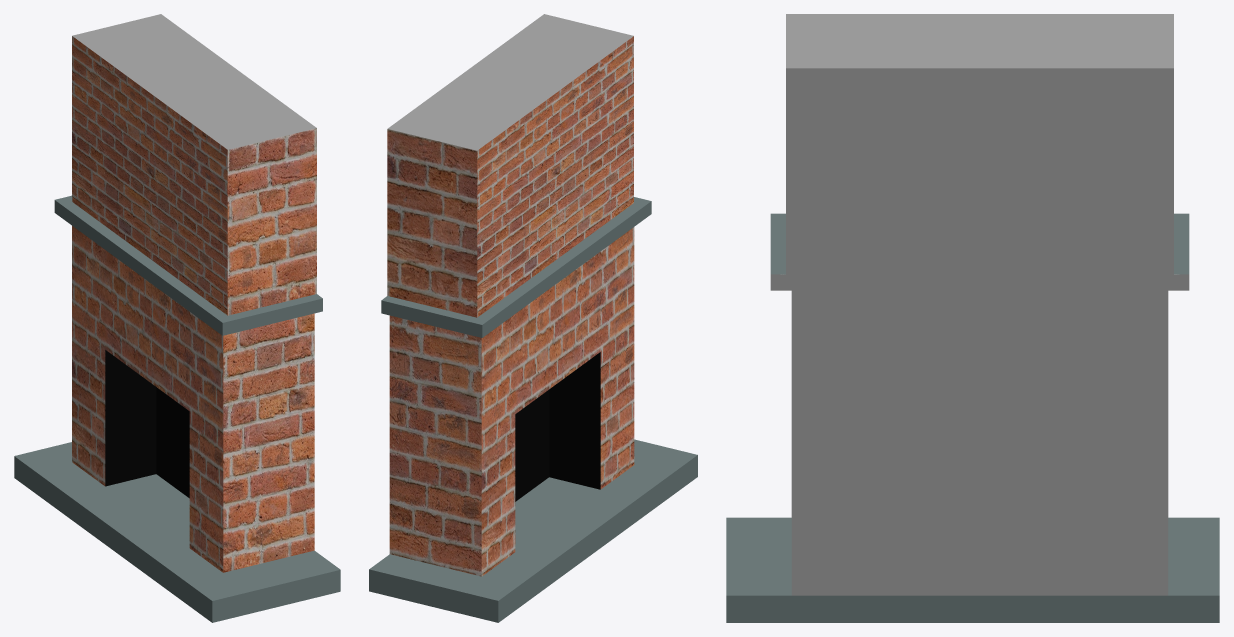
The model's file is Chimenea.fbx.
3 views of the same model, side by side, from view 1: azimuth 30°, elevation 25°; view 2: azimuth 150°, elevation 25°; view 3: azimuth 270°, elevation 25° (orthographic). The views are drawn at different scales.
Visible parts, largest first — view 1: polySurface59; view 2: polySurface59; view 3: polySurface59.
Boxes of the visible parts, <box> form: polySurface59: <box>14,14,340,622</box>; polySurface59: <box>369,14,697,622</box>; polySurface59: <box>726,14,1219,622</box>.
Size of the model in its own units: 3.65 by 12.08 by 9.73.
Materials: 4 (1 with a texture image).
